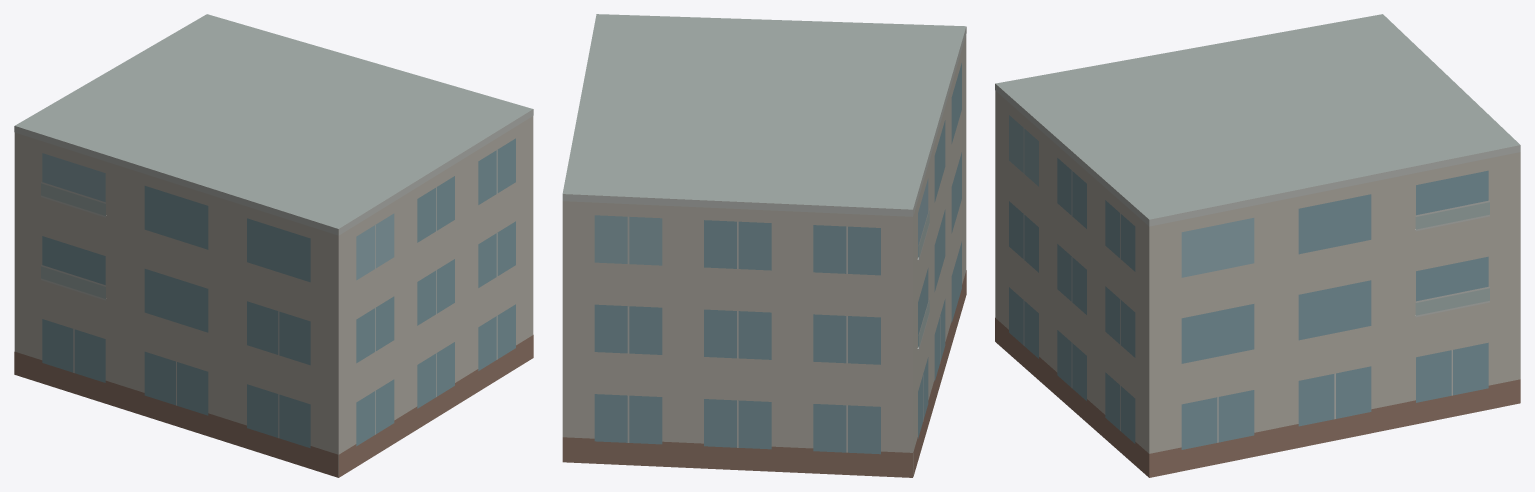
The model's file is survey-upis-32818887.glb.
3 renders of one model, left to right at view 1: azimuth 30°, elevation 25°; view 2: azimuth 150°, elevation 25°; view 3: azimuth 270°, elevation 25°, orthographic. The views are drawn at different scales.
Visible parts, largest first — view 1: survey-upis-32818887.tmp; view 2: survey-upis-32818887.tmp; view 3: survey-upis-32818887.tmp.
Part boxes in pixels (<box>): survey-upis-32818887.tmp: <box>14,14,533,477</box>; survey-upis-32818887.tmp: <box>562,14,966,477</box>; survey-upis-32818887.tmp: <box>995,14,1520,477</box>.
Bounding box in the file's own units: 15.56 × 9.1 × 16.79.
